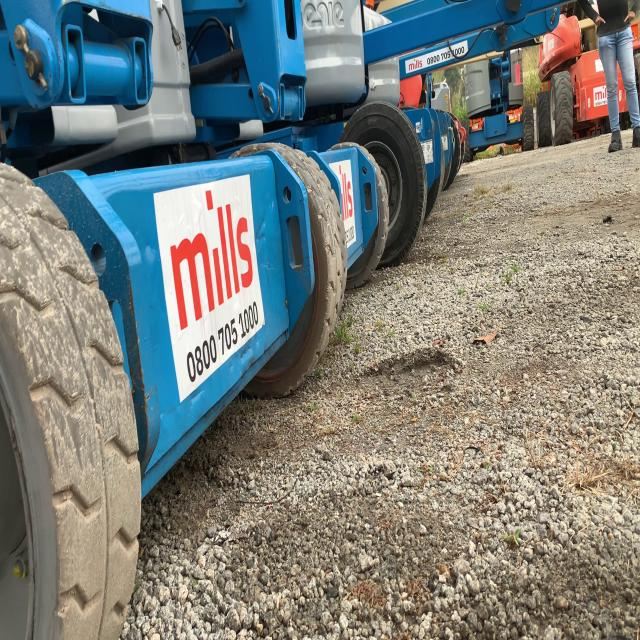Adesivos: (152, 171, 267, 409)
